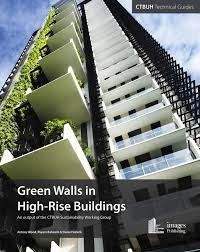high_rise_building: (1, 1, 199, 183)
